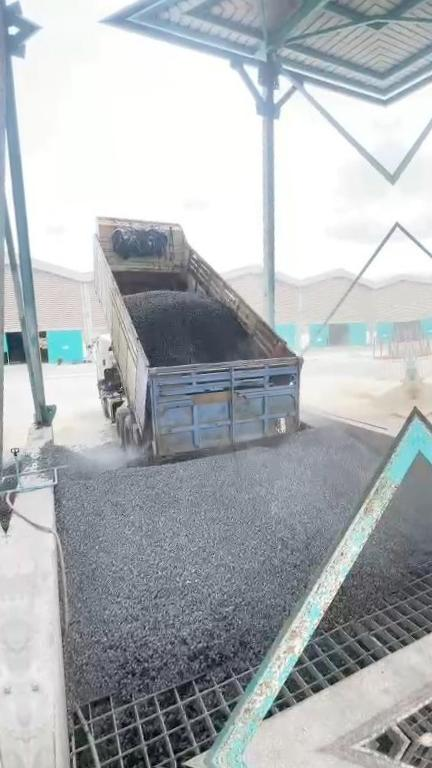gravel: (37, 425, 389, 703), (322, 459, 430, 625), (126, 290, 257, 365), (0, 459, 17, 533)
sand: (333, 383, 415, 434)
